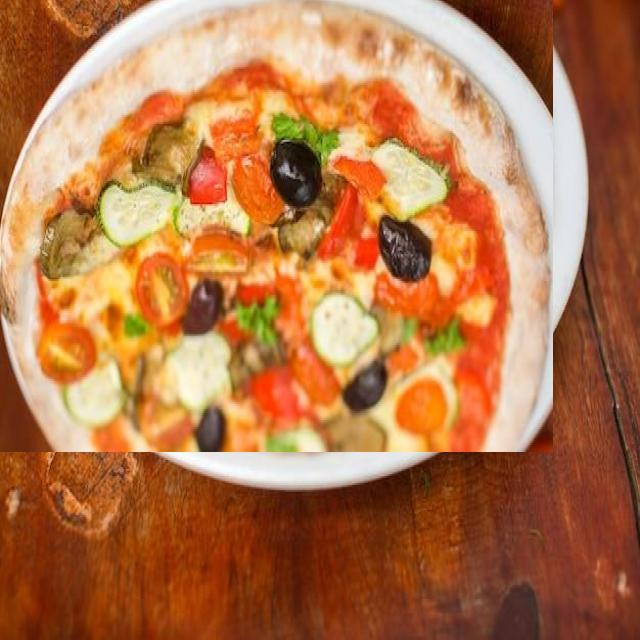olive: (270, 243, 322, 312), (379, 169, 432, 234), (180, 116, 223, 172), (343, 41, 387, 90), (194, 0, 224, 46)
pizza: (0, 0, 553, 452)
